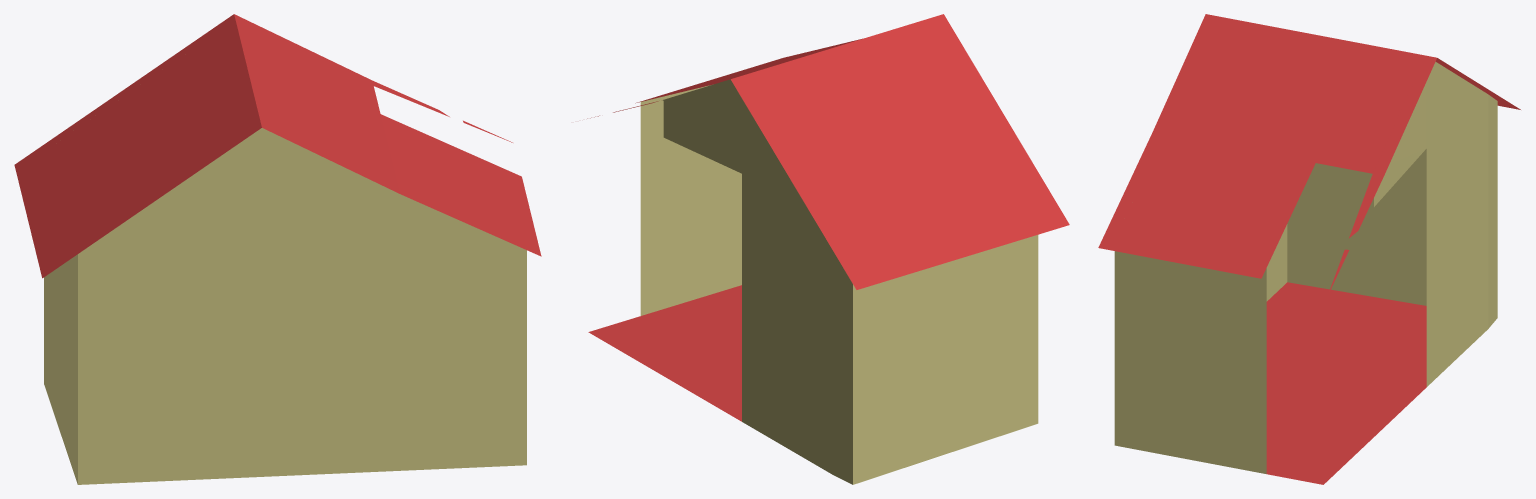
3 renders of one model, left to right at view 1: azimuth 30°, elevation 25°; view 2: azimuth 150°, elevation 25°; view 3: azimuth 270°, elevation 25°, orthographic. The views are drawn at different scales.
Size of the model in its own units: 21.34 by 16.96 by 14.69.
